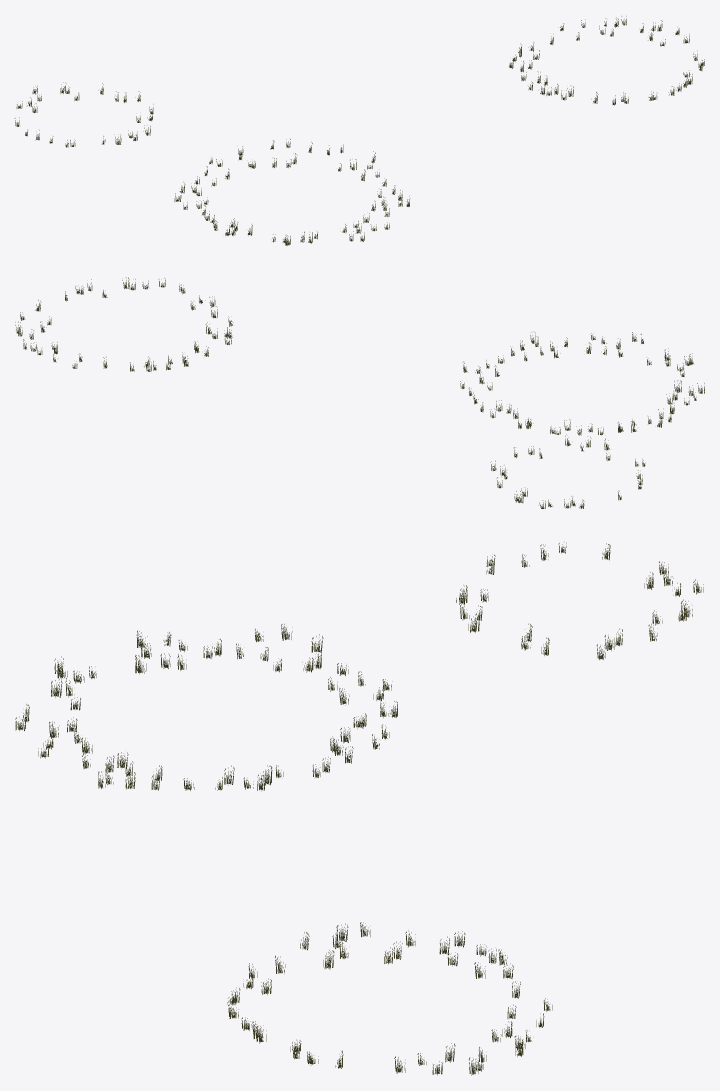
The model's file is SM_Art_Cover_L_FalseBearings_Reeds.gltf.
3 views of the same model, one above another, from view 1: azimuth 30°, elevation 25°; view 2: azimuth 150°, elevation 25°; view 3: azimuth 270°, elevation 25° (orthographic). The views are drawn at different scales.
Visible parts, largest first — view 1: SM_Art_Cover_L_FalseBearings_Reeds; view 2: SM_Art_Cover_L_FalseBearings_Reeds; view 3: SM_Art_Cover_L_FalseBearings_Reeds.
Boxes of the visible parts, bbox=[...] form: SM_Art_Cover_L_FalseBearings_Reeds: bbox=[14, 16, 704, 245]; SM_Art_Cover_L_FalseBearings_Reeds: bbox=[15, 277, 704, 508]; SM_Art_Cover_L_FalseBearings_Reeds: bbox=[15, 543, 703, 1075].
Bounding box in the file's own units: 85.59 × 4.99 × 50.72.
1 material, 1 textured.
